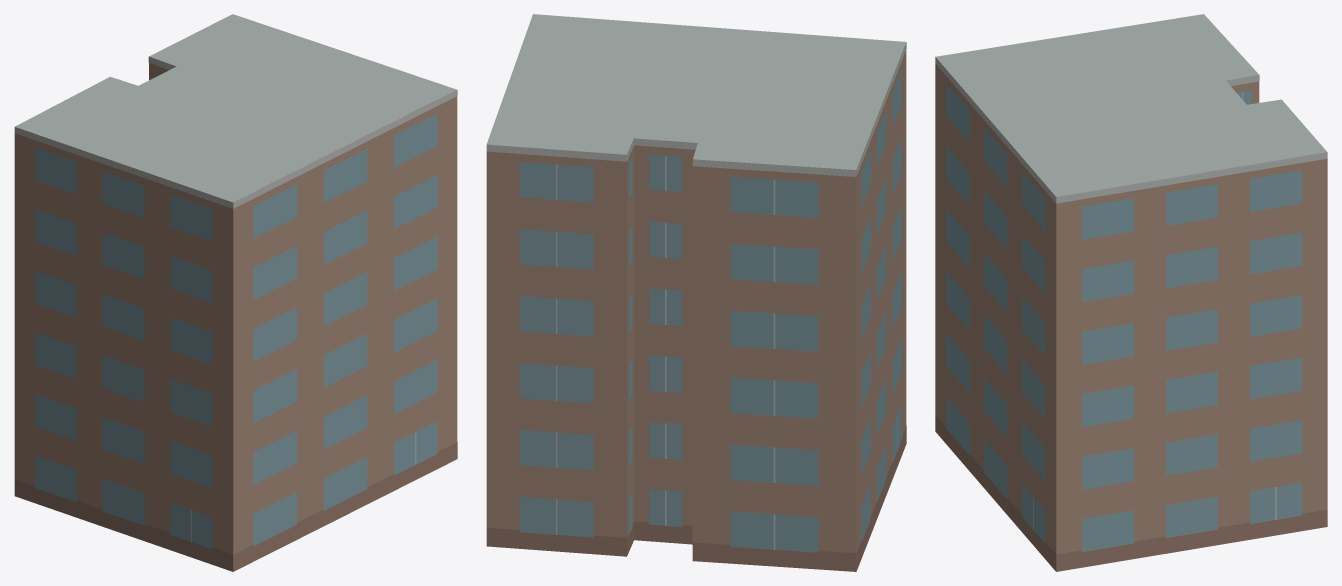
The model's file is survey-upis-32934724.glb.
The picture shows the model from 3 angles, left to right: view 1: azimuth 30°, elevation 25°; view 2: azimuth 150°, elevation 25°; view 3: azimuth 270°, elevation 25°; orthographic projection. The views are drawn at different scales.
Visible parts, largest first — view 1: survey-upis-32934724.tmp; view 2: survey-upis-32934724.tmp; view 3: survey-upis-32934724.tmp.
Boxes of the visible parts, left/top/right/bottom form: survey-upis-32934724.tmp: left=14, top=14, right=457, bottom=571; survey-upis-32934724.tmp: left=486, top=14, right=906, bottom=571; survey-upis-32934724.tmp: left=935, top=14, right=1327, bottom=571.
Bounding box in the file's own units: 14.9 × 14.2 × 13.48.
